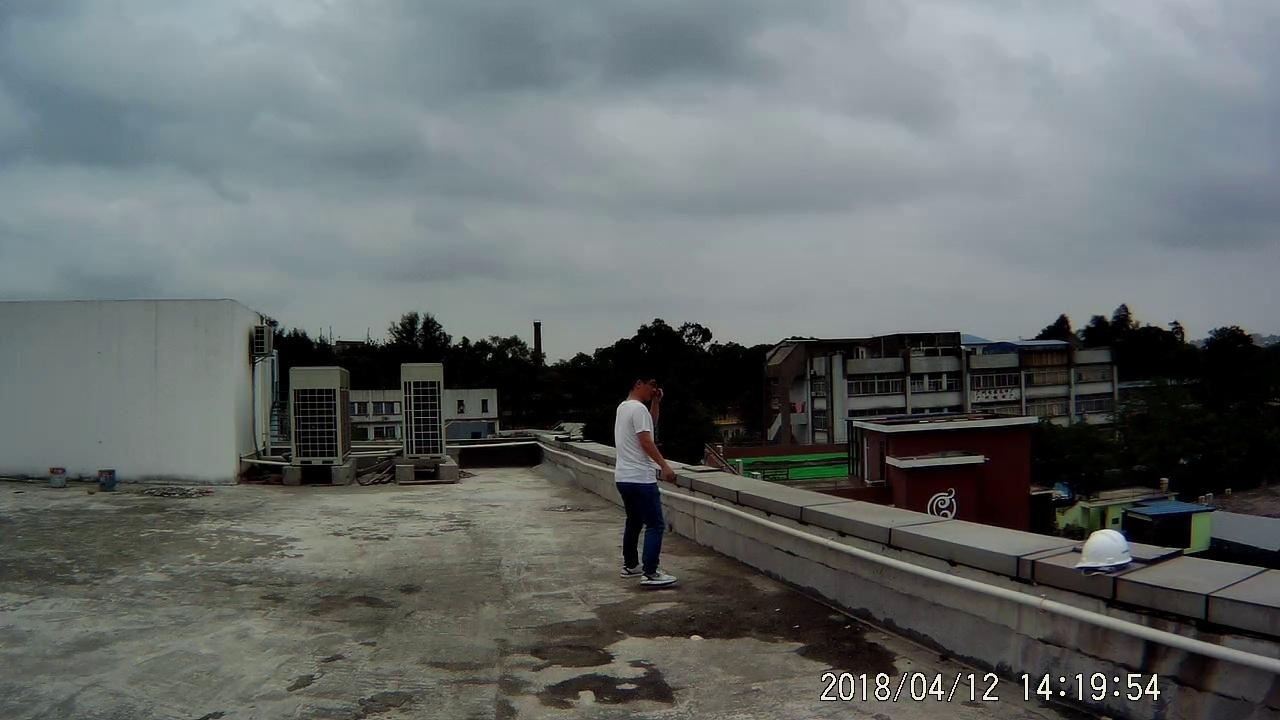NoVest: (607, 402, 661, 484)
